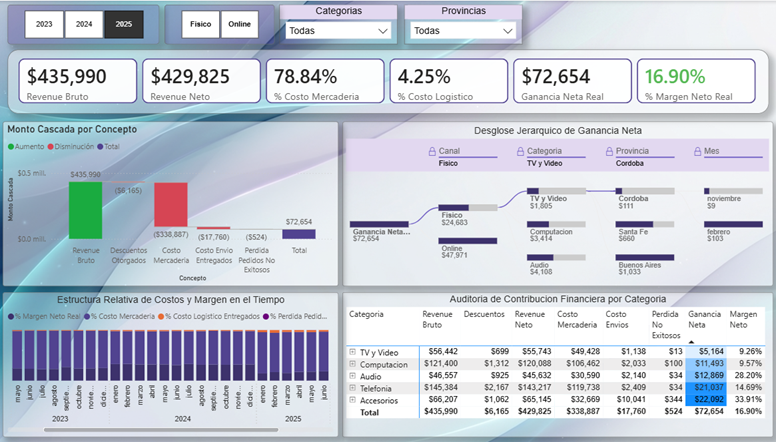

The dashboard page shown, as its layout file describes it:
{"tool":"powerbi","page":{"name":"Diagnostico de Rentabilidad","canvas":[1300,740],"ordinal":1},"visuals":[{"type":"decompositionTreeVisual","title":"Desglose Jerarquico de Ganancia Neta","fields":{"Analyze":["_medidas.Ganancia Neta Real"],"ExplainBy":["fact_pedidos_final.canal_venta","dim_productos.categoria","dim_clientes.provincia","dim_calendario.Mes Name"]},"box":[572.5,201.4,717.3,274.6],"z":0},{"type":"pivotTable","title":"Auditoria de Contribucion Financiera por Categoria","fields":{"Rows":["dim_productos.categoria","dim_productos.gama","dim_productos.marca"],"Values":["_medidas.Revenue Bruto","_medidas.Descuentos Otorgados","_medidas.Revenue Neto","_medidas.Costo Mercaderia","_medidas.Costo Envio Entregados","_medidas.Perdida Pedidos No Exitosos","_medidas.Ganancia Neta Real","_medidas.% Margen Neto Real"]},"box":[572.5,485.9,717.3,241.3],"z":1000},{"type":"slicer","fields":{"Values":["dim_calendario.Año"]},"box":[14.6,6.8,252.6,66.3],"z":3000},{"type":"slicer","title":"Categorias","fields":{"Values":["dim_productos.categoria"]},"box":[468.1,6.8,197,66.3],"z":4000},{"type":"slicer","title":"Provincias","fields":{"Values":["dim_clientes.provincia"]},"box":[675.8,6.8,197,66.3],"z":5000},{"type":"slicer","fields":{"Values":["fact_pedidos_final.canal_venta"]},"box":[276,6.8,183.3,66.3],"z":6000},{"type":"cardVisual","fields":{"Data":["_medidas.Revenue Bruto","_medidas.Revenue Neto","_medidas.% Costo Mercaderia","_medidas.% Costo Logistico","_medidas.Ganancia Neta Real","_medidas.% Margen Neto Real"]},"box":[14.5,80.9,1268.2,107],"z":7000},{"type":"waterfallChart","fields":{"Category":["Estructura Cascada.Concepto"],"Y":["_medidas.Monto Cascada"]},"box":[6.7,201.4,559.2,274.6],"z":8000},{"type":"columnChart","title":"Estructura Relativa de Costos y Margen en el Tiempo","fields":{"Category":["dim_calendario.Año","dim_calendario.Mes Name"],"Y":["_medidas.% Margen Neto Real","_medidas.% Costo Mercaderia","_medidas.% Costo Logistico Entregados","_medidas.% Perdida Pedidos No Exitosos"]},"box":[6.7,485.9,559.2,241.3],"z":8001}]}

Visuals, with their boxes in screenshot pixels (x1, y1, x2, y2), scaled from the page's 1300x740 canvas onto the 776x442 screenshot:
"Desglose Jerarquico de Ganancia Neta" decompositionTreeVisual: crop(342, 120, 770, 284)
"Auditoria de Contribucion Financiera por Categoria" pivotTable: crop(342, 290, 770, 434)
slicer - dim_calendario.Año: crop(9, 4, 159, 44)
"Categorias" slicer: crop(279, 4, 397, 44)
"Provincias" slicer: crop(403, 4, 521, 44)
slicer - fact_pedidos_final.canal_venta: crop(165, 4, 274, 44)
cardVisual - _medidas.Revenue Bruto x _medidas.Revenue Neto: crop(9, 48, 766, 112)
waterfallChart - Estructura Cascada.Concepto x _medidas.Monto Cascada: crop(4, 120, 338, 284)
"Estructura Relativa de Costos y Margen en el Tiempo" columnChart: crop(4, 290, 338, 434)
